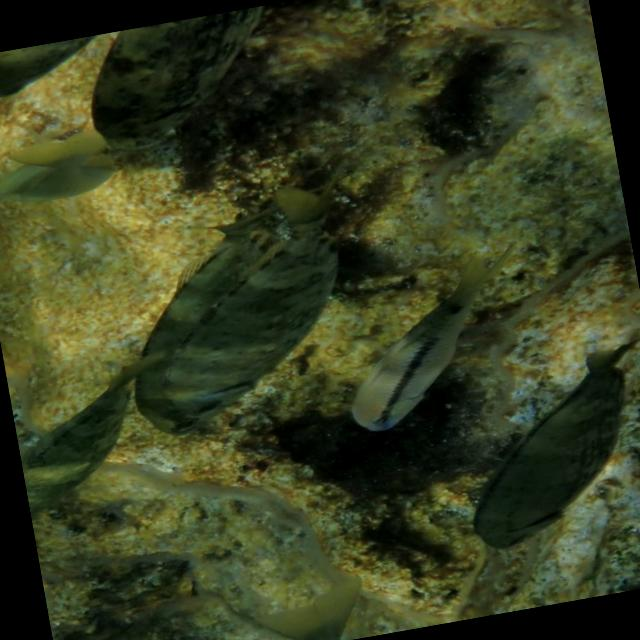Sokar Baligi: (427, 328, 640, 572)
